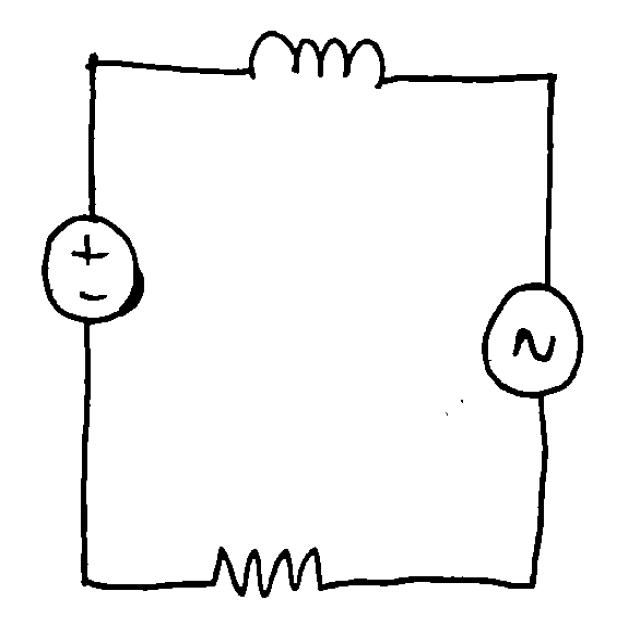ac: (469, 273, 592, 406)
dc: (34, 197, 155, 331)
inductor: (234, 24, 398, 108)
resistor: (196, 531, 338, 614)
